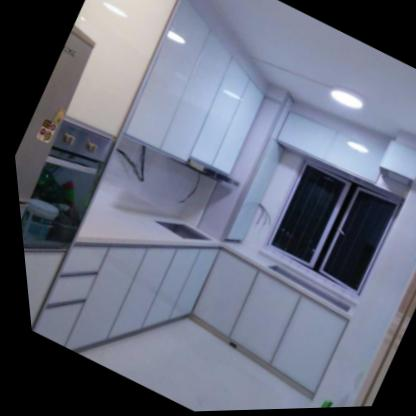Cabinet: (16, 182, 352, 416), (119, 0, 267, 190)
